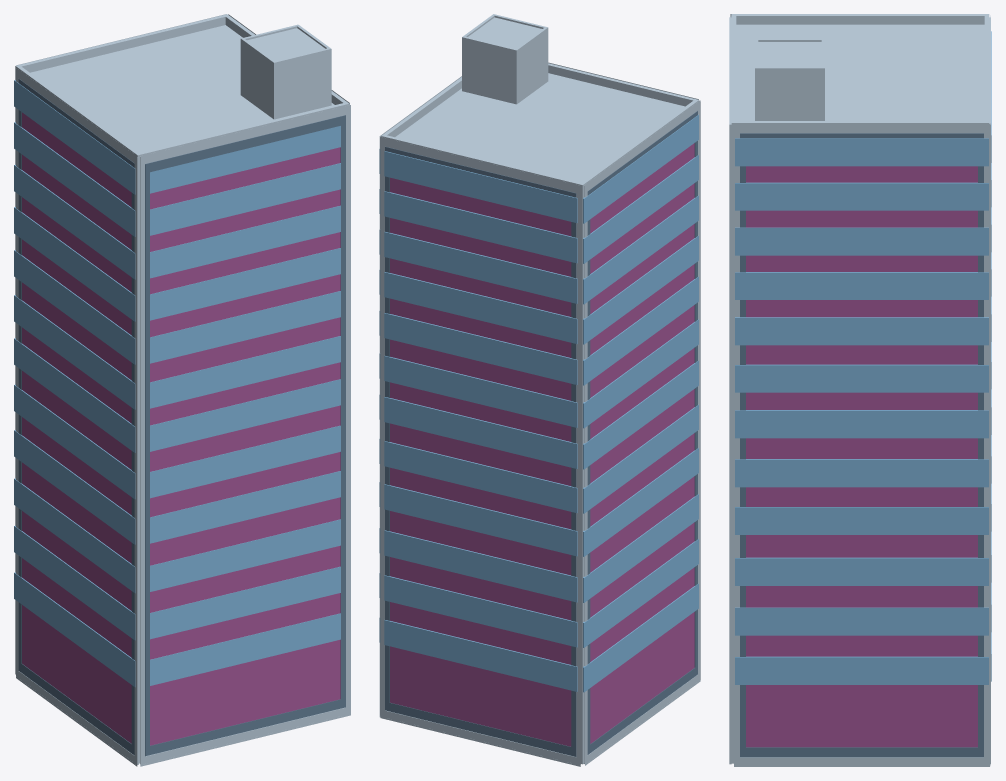
File: biru_2_2.fbx
The picture shows the model from 3 angles, left to right: view 1: azimuth 30°, elevation 25°; view 2: azimuth 150°, elevation 25°; view 3: azimuth 270°, elevation 25°; orthographic projection. The views are drawn at different scales.
Parts seen in each view (by area): view 1: Window.L, Plane.025, Plane.011, Window.L.001, Cube, WindowFrame, Cube.001, WindowFrame.001; view 2: Plane.036, Window.L.003, Plane.011, Window.L.001, Cube, WindowFrame.003, Cube.001, WindowFrame.001, WindowFrame.002, Plane.013; view 3: Plane.013, Window.L.002, Cube, WindowFrame.002, Cube.001, WindowFrame, WindowFrame.003, Plane.036.
Part boxes in pixels (x1,y1,x2,y2): Window.L: (145,115,345,756); Plane.025: (150,126,340,685); Plane.011: (14,80,135,686); Window.L.001: (18,79,134,755); Cube: (15,14,349,763); WindowFrame: (140,105,350,766); Cube.001: (240,24,331,119); WindowFrame.001: (16,68,138,766); Plane.036: (384,151,577,691); Window.L.003: (385,146,576,756); Plane.011: (583,114,698,692); Window.L.001: (587,111,697,754); Cube: (381,63,699,764); WindowFrame.003: (380,137,580,766); Cube.001: (462,14,548,104); WindowFrame.001: (584,100,700,765); WindowFrame.002: (379,76,461,716); Plane.013: (379,149,380,642); Plane.013: (735,138,988,684); Window.L.002: (740,133,983,757); Cube: (731,14,989,763); WindowFrame.002: (734,124,989,766); Cube.001: (755,38,824,120); WindowFrame: (729,17,731,764); WindowFrame.003: (989,15,990,765); Plane.036: (991,31,991,681).
Size of the model in its own units: 538 by 1575 by 540.
